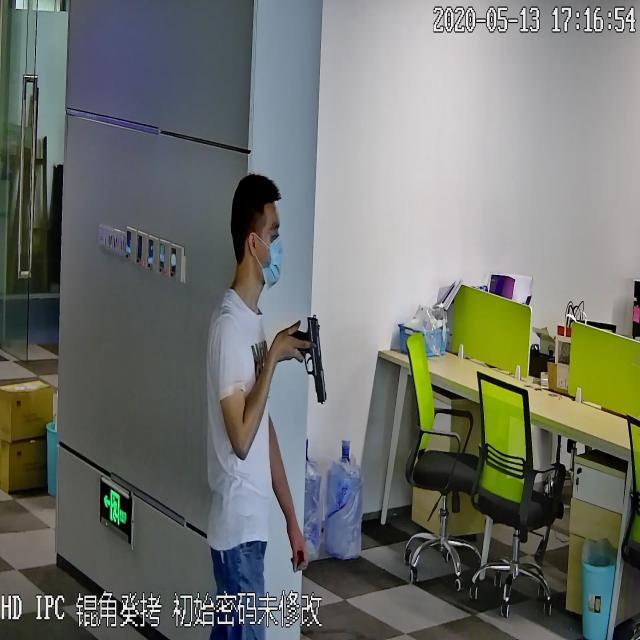gun: (284, 312, 328, 404)
